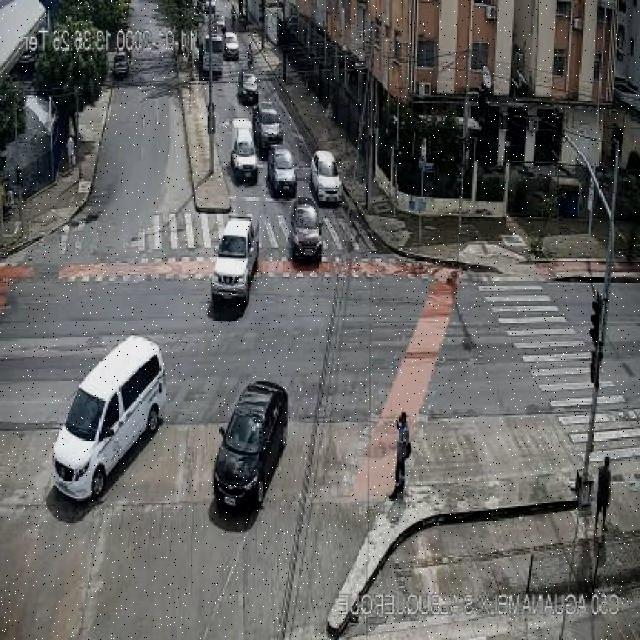Car: (212, 381, 288, 514), (211, 214, 261, 306), (288, 198, 322, 262), (310, 149, 342, 204), (252, 103, 284, 156), (266, 146, 297, 196), (237, 71, 259, 103), (223, 31, 240, 60), (113, 52, 130, 78), (213, 14, 226, 35)
Van: (52, 332, 168, 499), (230, 120, 260, 182)
